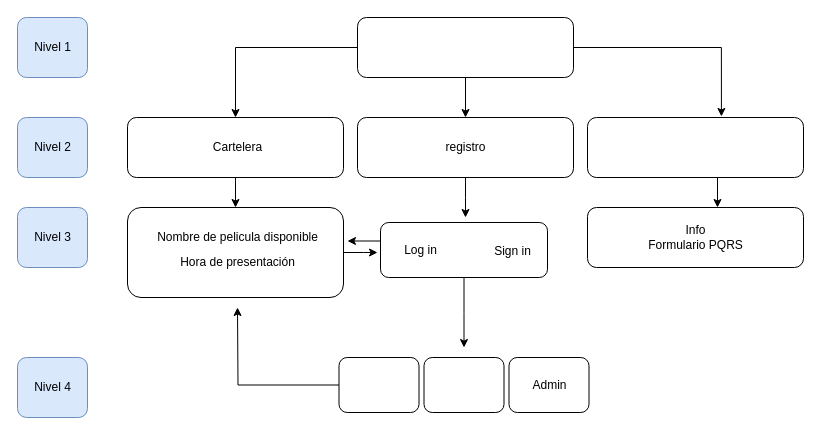
Some shapes in this 821 by 435 pixel diagram are drawn without their labels. The shapes that lost their labels are listed below. From the top down, each one's box as (x1, y1, x2, y2) in pixels, then its label:
(356, 16, 574, 78): Home
(586, 116, 804, 178): Contáctanos
(338, 356, 419, 412): User
(423, 356, 504, 412): Super Admin
